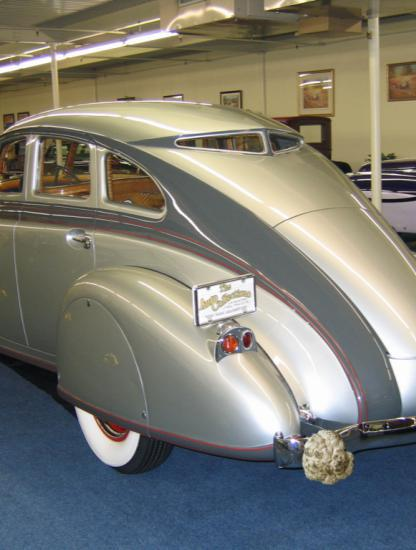Cauliflower: (299, 428, 357, 486)
